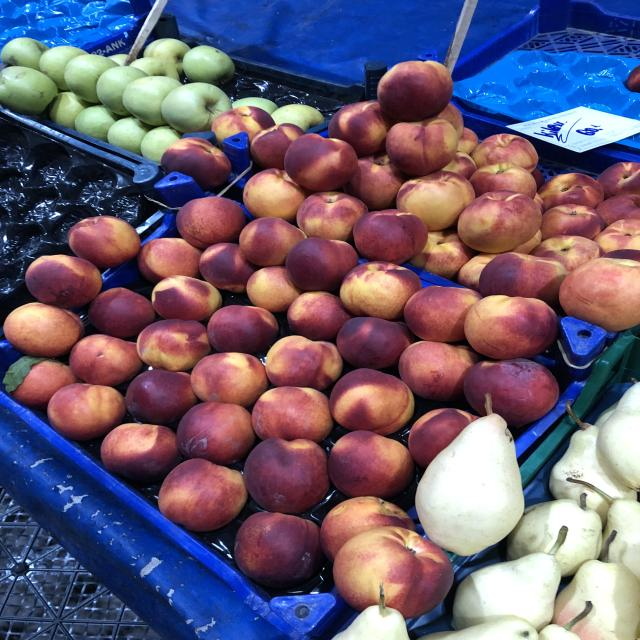apple: (161, 82, 232, 133)
peach: (333, 526, 453, 618), (243, 438, 330, 514), (158, 458, 248, 531), (464, 295, 558, 360), (559, 258, 640, 331), (329, 369, 415, 435), (457, 190, 542, 253), (340, 262, 422, 320), (479, 253, 568, 305), (252, 386, 333, 442), (48, 383, 126, 440), (191, 352, 268, 407), (385, 118, 458, 176), (25, 255, 102, 309), (353, 209, 428, 264), (285, 237, 359, 292), (137, 320, 211, 372), (68, 216, 141, 268), (296, 191, 368, 241), (207, 305, 279, 354), (239, 217, 307, 267), (531, 235, 603, 272), (538, 173, 603, 210)
